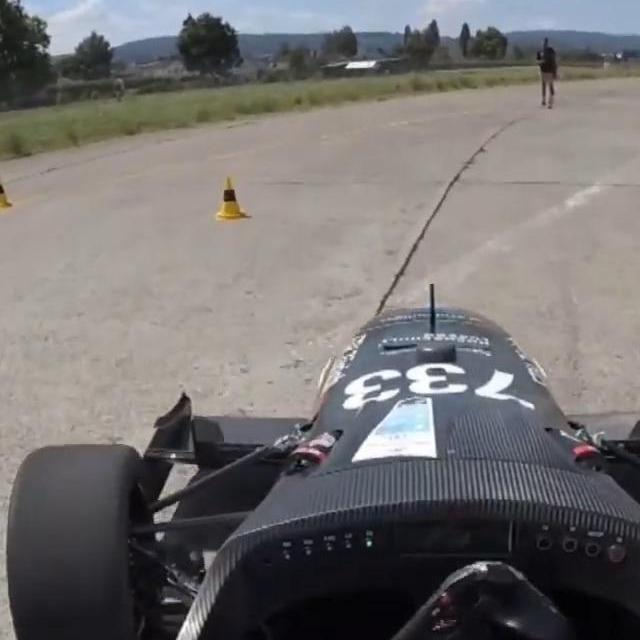NO-Safety Vest: (539, 50, 555, 76)
Person: (536, 38, 558, 109)
Safety Cone: (217, 178, 248, 232), (0, 175, 12, 218)
vehicle: (0, 280, 640, 640)
